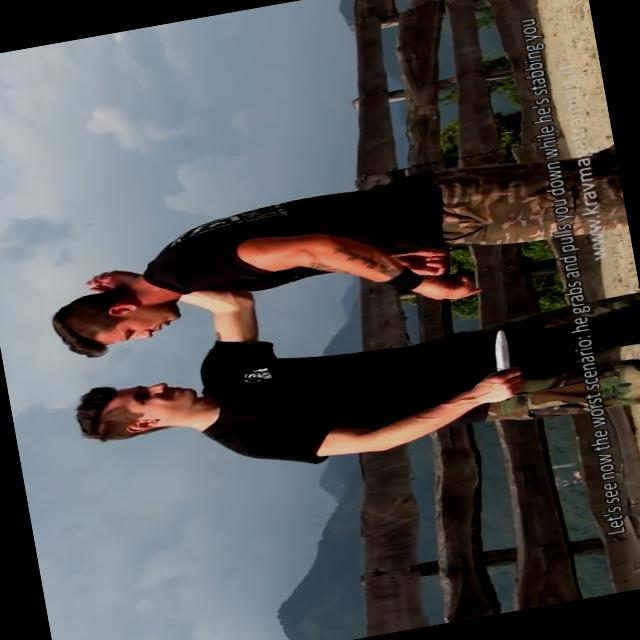knife: (474, 323, 526, 406)
